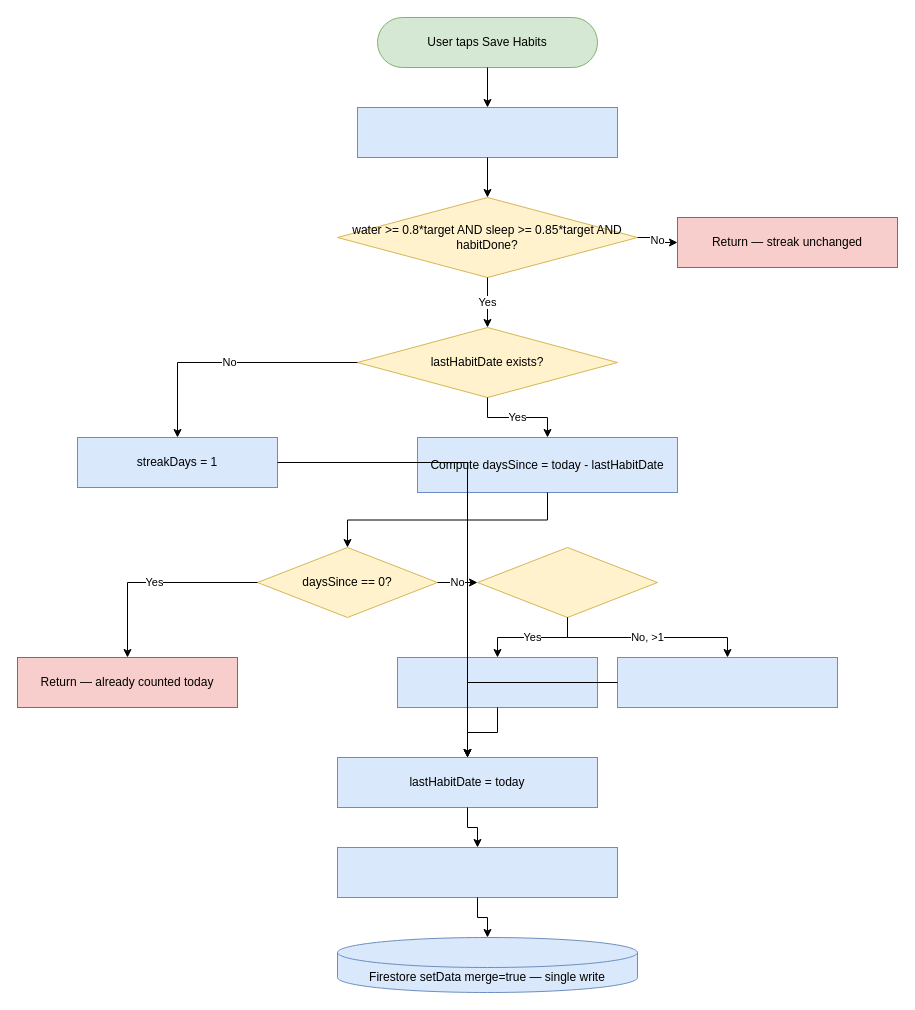
This 915x1010 diagram has some shape labels left out. The centre of each missing label's shape, as x and y in pixels:
applyStreakChange(): the point at 487,132
daysSince == 1?: the point at 567,582
streakDays += 1: the point at 497,682
streakDays = 1 (missed >1 day): the point at 727,682
xp += 20 + streakDays * 5: the point at 477,872
